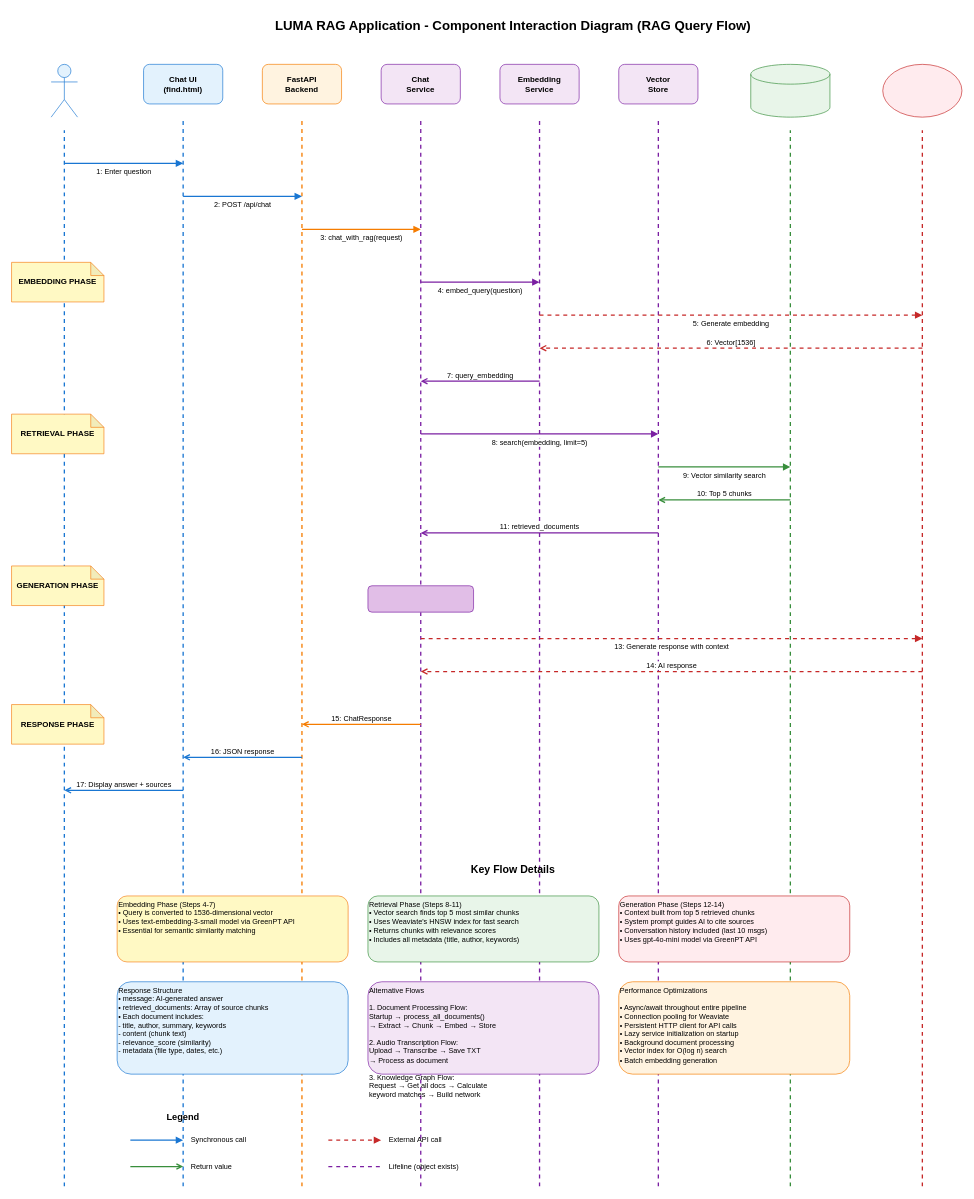
The diagram is 974 pixels wide and 1199 high, and some of its shapes have lost their labels. The shapes that lost their labels are listed below. From the top down, each one's centre as x and y in pixels, then its label:
the point at 64,90: User
the point at 790,90: Weaviate Database
the point at 922,90: GreenPT LLM API
the point at 420,598: 12: Build context from docs
